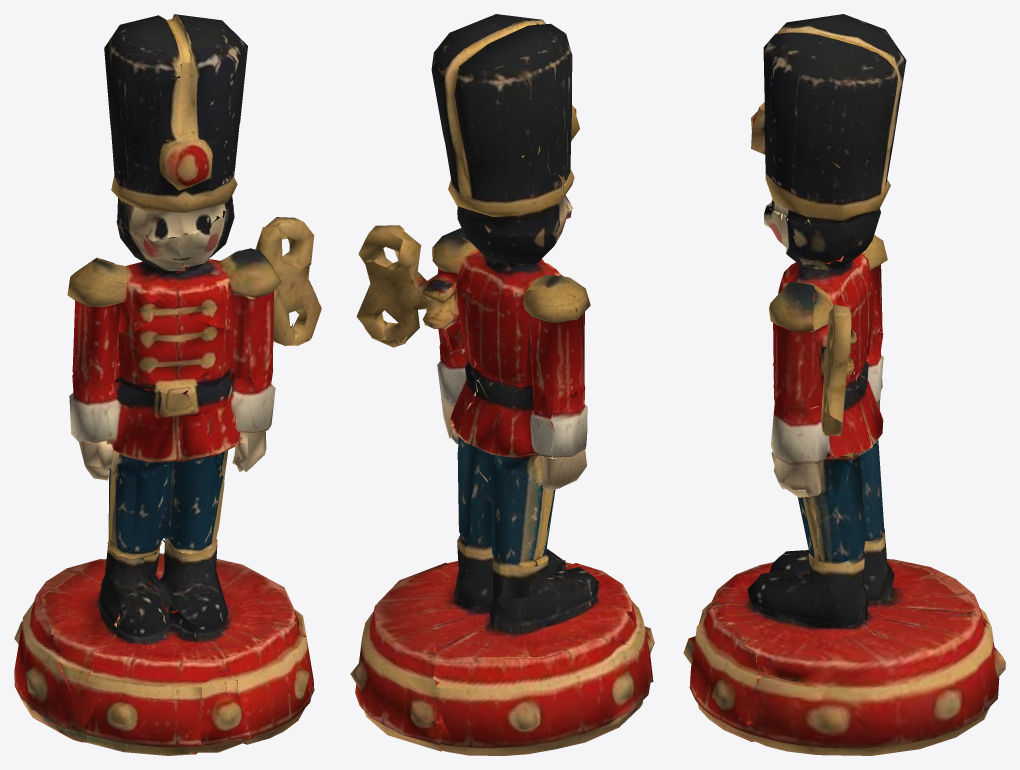
Rendered from prop_toy_soldier_giant.glb.
3 views of the same model, side by side, from view 1: azimuth 30°, elevation 25°; view 2: azimuth 150°, elevation 25°; view 3: azimuth 270°, elevation 25° (orthographic). The views are drawn at different scales.
Visible parts, largest first — view 1: Mesh_0; view 2: Mesh_0; view 3: Mesh_0.
Part boxes in pixels (bbox=[...]): Mesh_0: bbox=[14, 14, 321, 755]; Mesh_0: bbox=[350, 14, 654, 755]; Mesh_0: bbox=[683, 14, 1005, 755].
Bounding box in the file's own units: 0.3899 × 0.8836 × 0.3867.
Materials: 1 (1 with a texture image).
